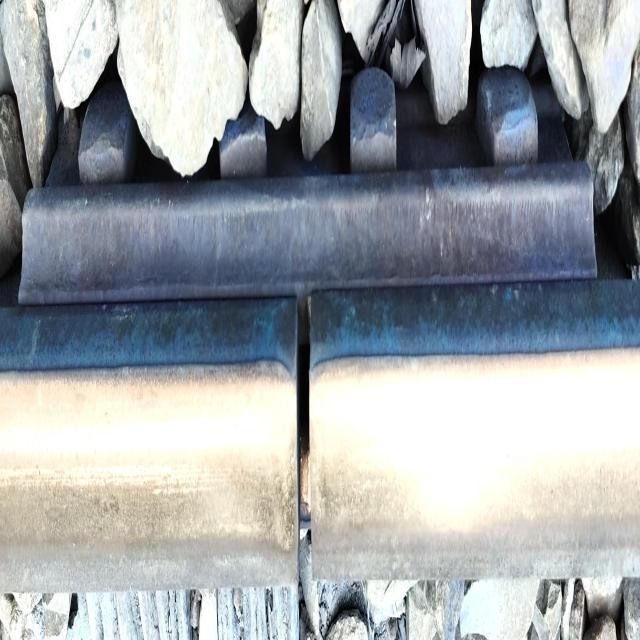Good Joint: (10, 55, 601, 299)
